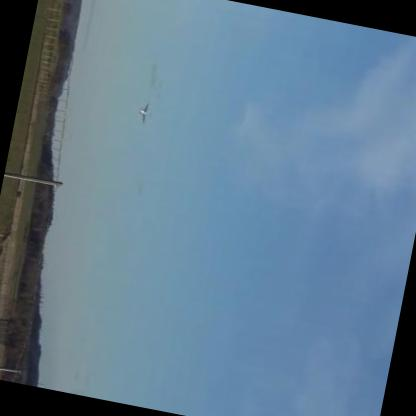plane: (135, 100, 151, 126)
